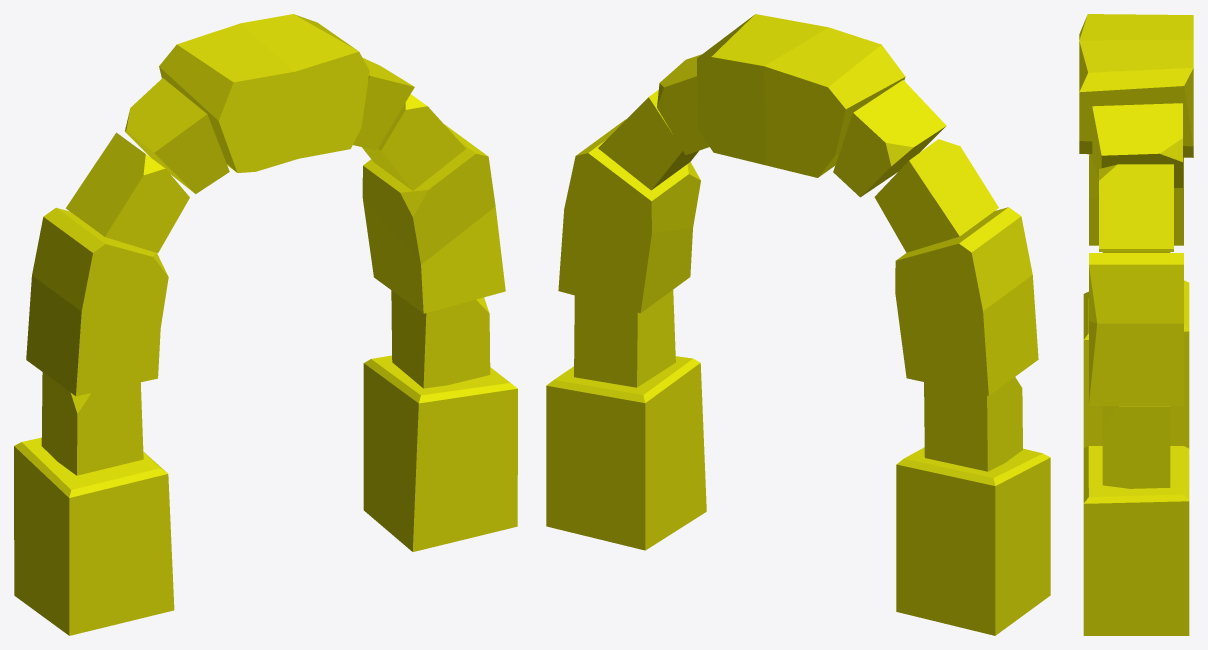
3 renders of one model, left to right at view 1: azimuth 30°, elevation 25°; view 2: azimuth 150°, elevation 25°; view 3: azimuth 270°, elevation 25°, orthographic. The views are drawn at different scales.
Visible parts, largest first — view 1: cong; view 2: cong; view 3: cong.
Boxes of the visible parts, x1,y1,x2,y2 form: cong: (14,14,517,635); cong: (546,14,1050,635); cong: (1079,14,1193,635).
Size of the model in its own units: 3.1 by 3.4 by 0.7137.
1 material, 1 textured.
